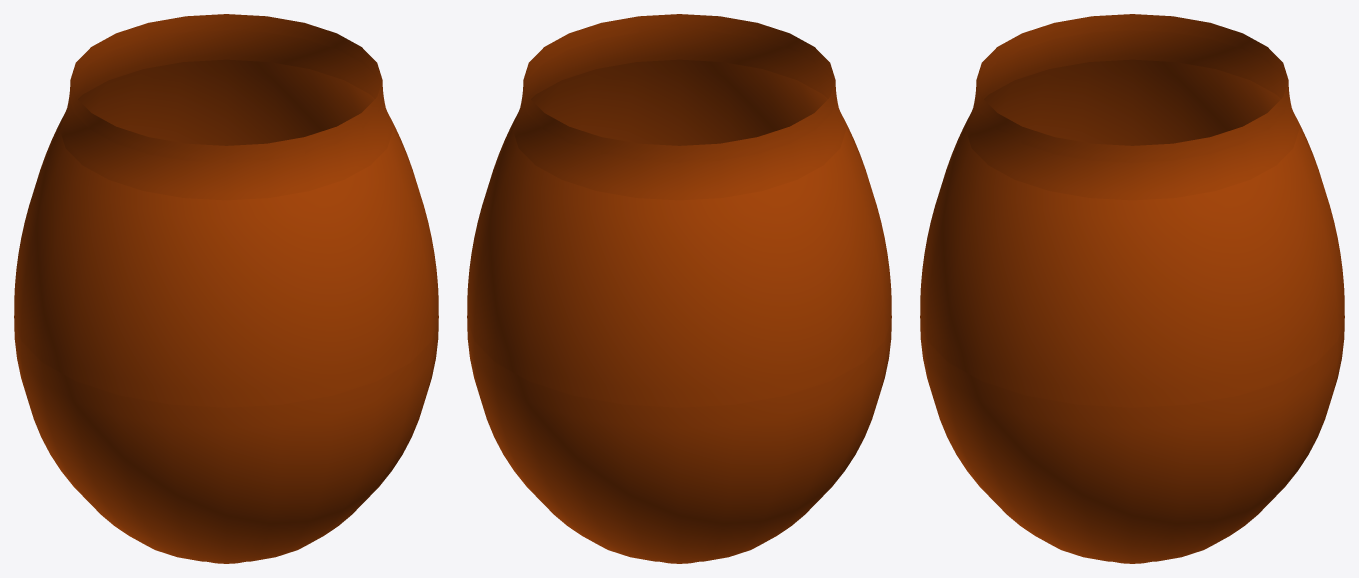
Rendered from beer_content1.dae.
3 views of the same model, side by side, from view 1: azimuth 30°, elevation 25°; view 2: azimuth 150°, elevation 25°; view 3: azimuth 270°, elevation 25° (orthographic).
Parts seen in each view (by area): view 1: _13oz_Libbey_Belgian_Snifter; view 2: _13oz_Libbey_Belgian_Snifter; view 3: _13oz_Libbey_Belgian_Snifter.
Part boxes in pixels (box(x1,y1,x2,y2)): _13oz_Libbey_Belgian_Snifter: box(14, 14, 438, 563); _13oz_Libbey_Belgian_Snifter: box(467, 14, 891, 563); _13oz_Libbey_Belgian_Snifter: box(920, 14, 1344, 563).
Size of the model in its own units: 2.78 by 2.78 by 3.43.
